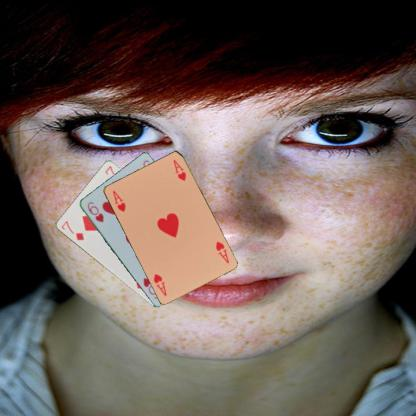6h: (84, 198, 104, 223)
7d: (58, 218, 85, 241)
Ah: (213, 238, 230, 264), (110, 188, 126, 213)
